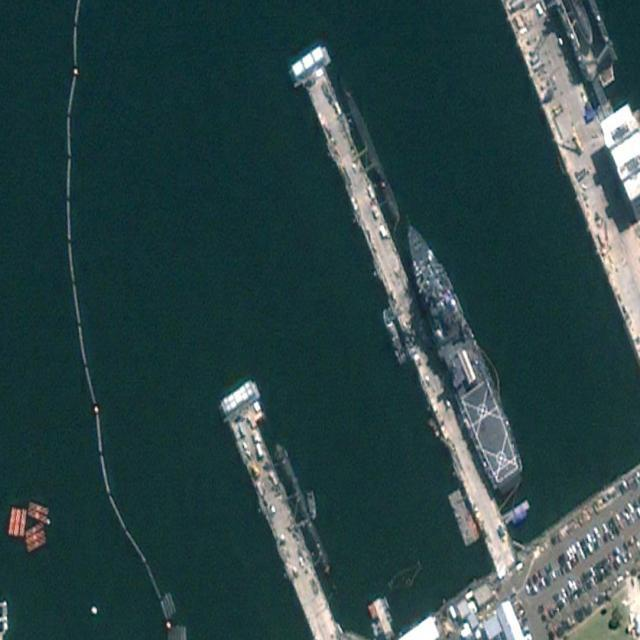Landing: (391, 209, 528, 497)
Submarine: (340, 79, 404, 230), (269, 437, 335, 581)
